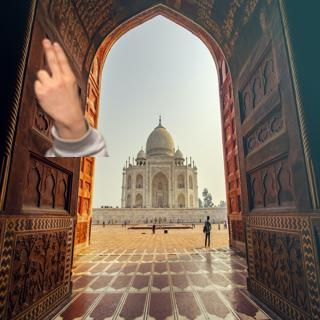DHAVE: (29, 35, 84, 126)
